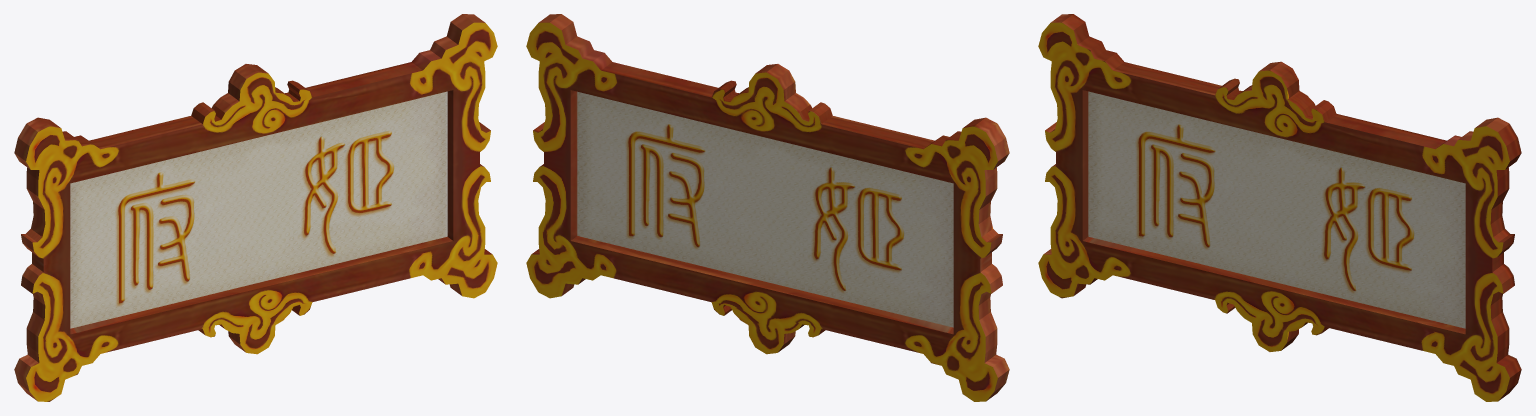
Rendered from mod_zlc_paibian_01.FBX.
The picture shows the model from 3 angles, left to right: view 1: azimuth 30°, elevation 25°; view 2: azimuth 150°, elevation 25°; view 3: azimuth 330°, elevation 25°; orthographic projection.
Visible parts, largest first — view 1: mod_zhaopai01; view 2: mod_zhaopai01; view 3: mod_zhaopai01.
Part boxes in pixels (x1,y1,x2,y2): mod_zhaopai01: (14,14,497,401); mod_zhaopai01: (526,14,1009,401); mod_zhaopai01: (1038,14,1521,401).
Size of the model in its own units: 161 by 91.74 by 6.89.
1 material, 1 textured.
